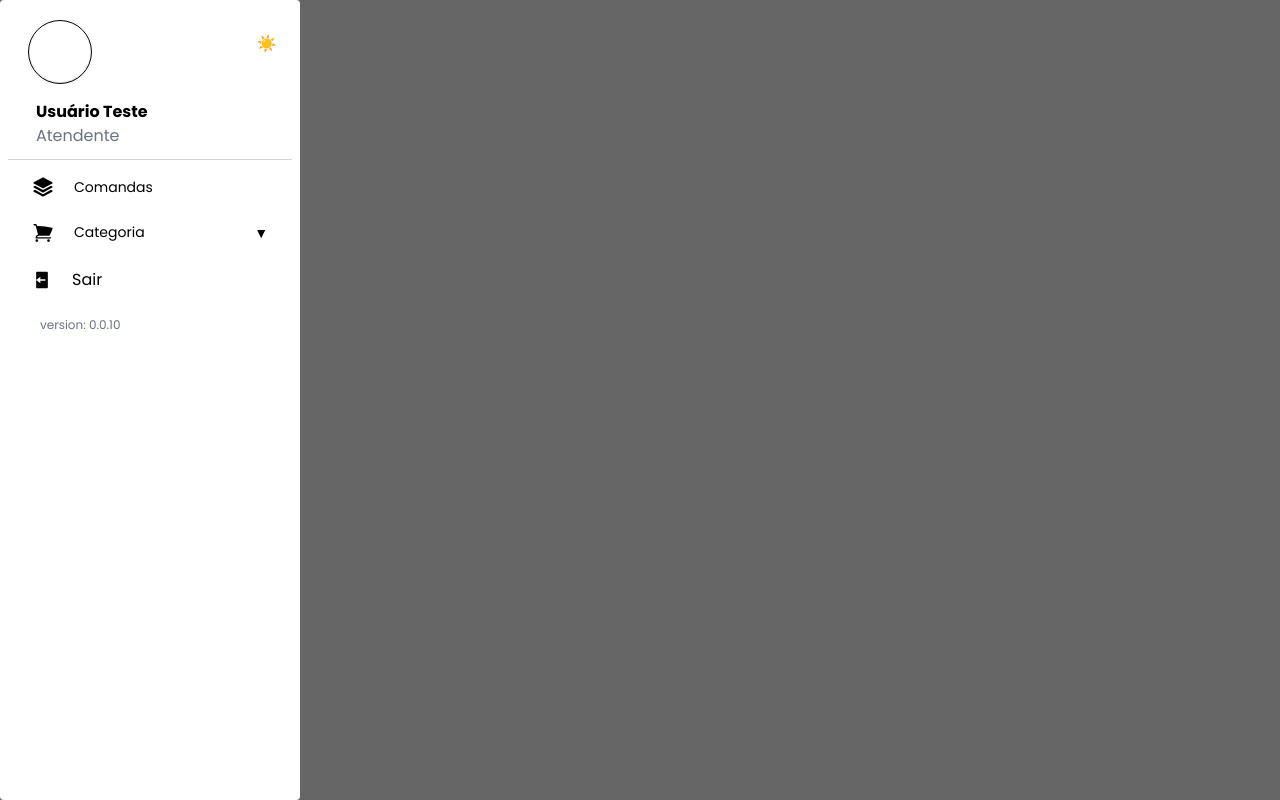
Scenario: exibe a saudação com o nome e expande o menu
Expected: the text "Usuário Teste" is shown, top-left (36, 100), bottom-right (148, 123)
Expected: the link "Comandas" is shown, top-left (32, 176), bottom-right (153, 198)
# Simula o clique no item "Categoria" para abrir o dropdown
Click the text "Categoria" at (88, 233), box top-left (32, 222), bottom-right (145, 244)
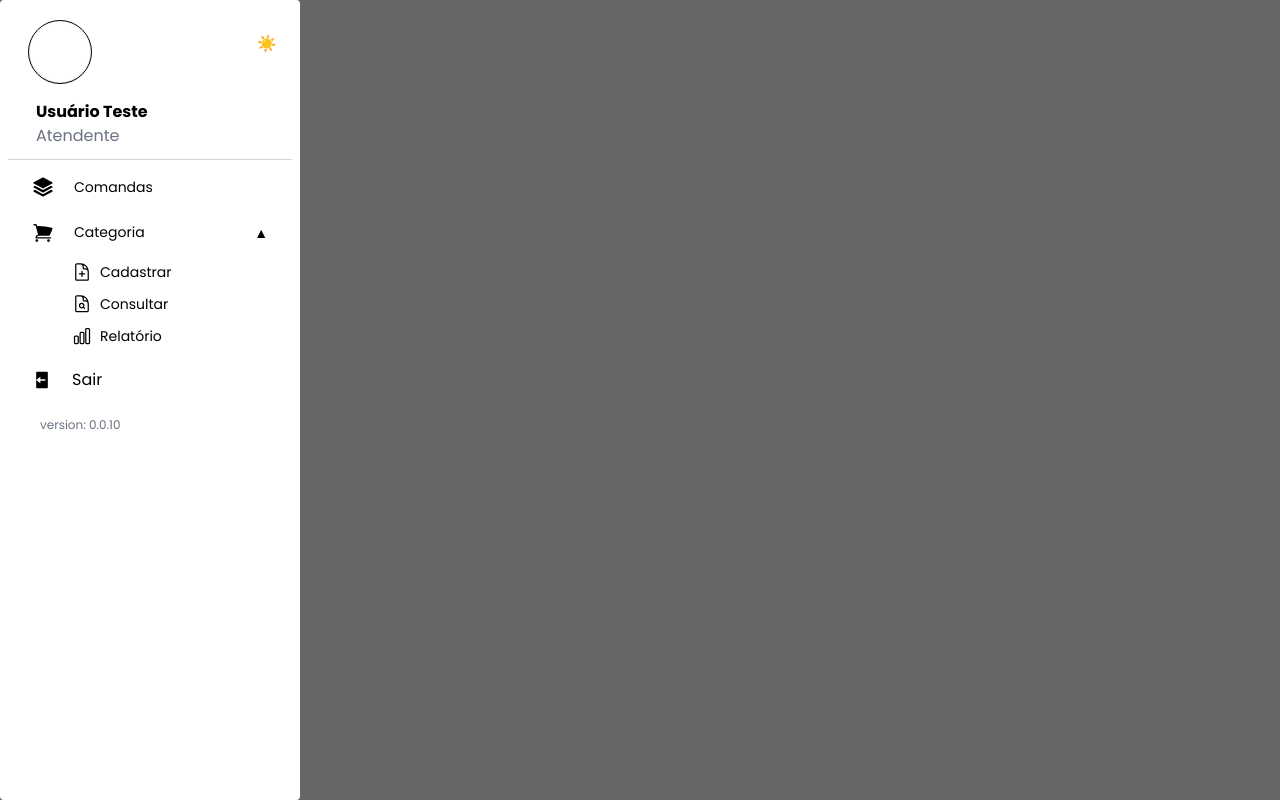
Result: the link "Cadastrar" is shown at top-left (72, 262), bottom-right (172, 282)
